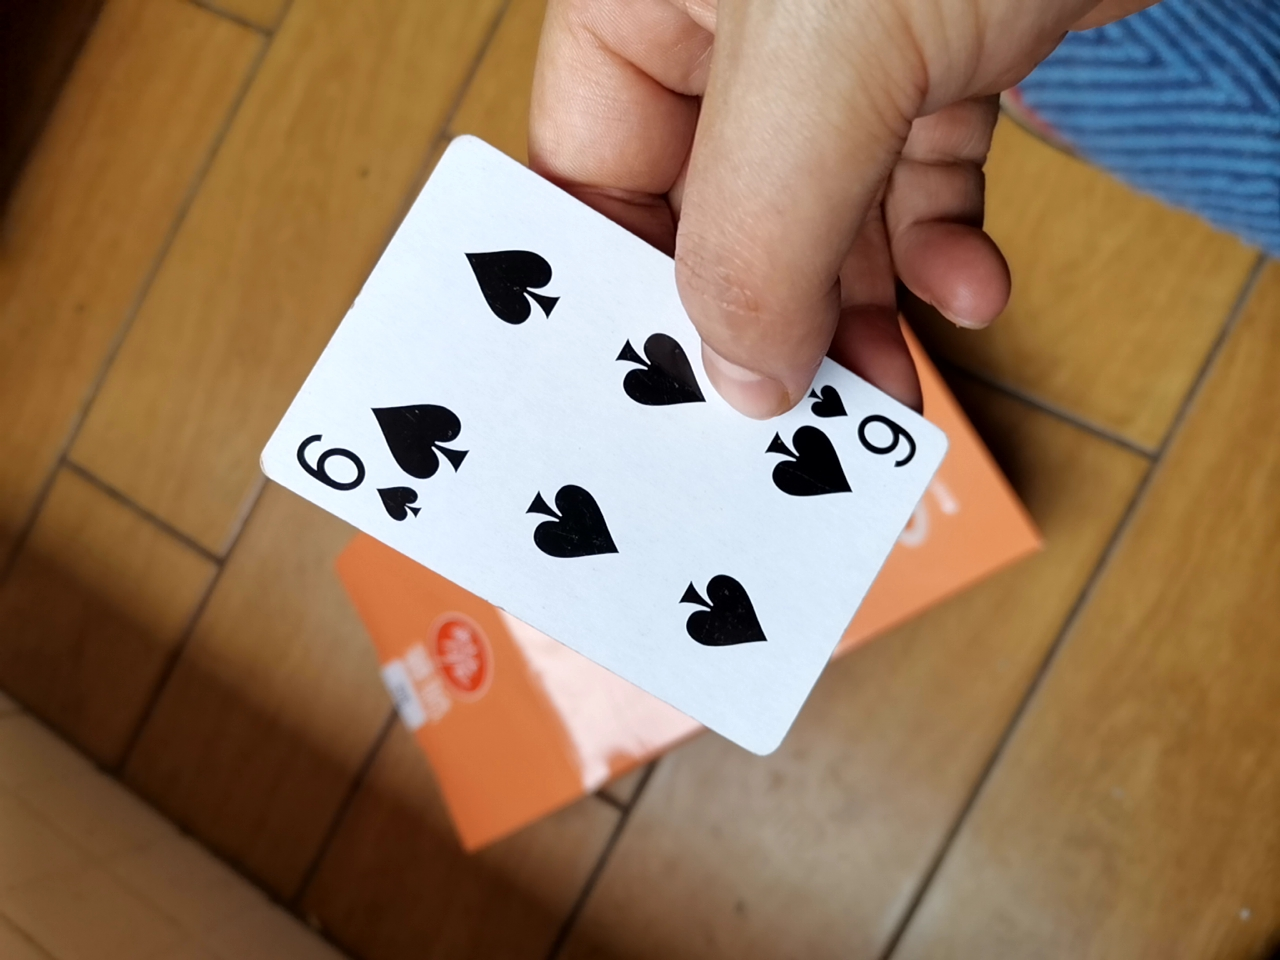ht 6: (250, 135, 966, 782)
